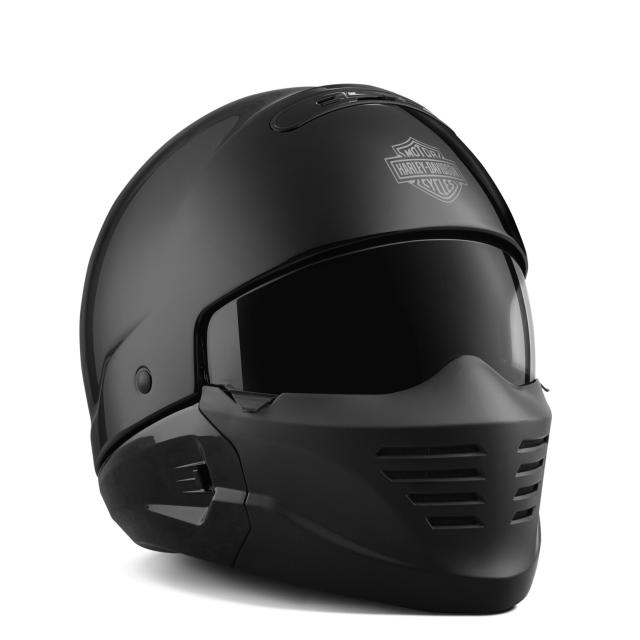Helmet: (40, 80, 586, 619)
